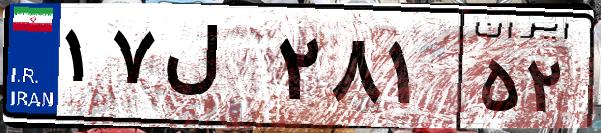1: (385, 28, 445, 110), (57, 26, 110, 100)
2: (270, 28, 330, 110), (525, 38, 570, 115)
5: (475, 38, 525, 113)
7: (110, 28, 158, 98)
8: (330, 28, 385, 110)
ل: (158, 20, 270, 120)
